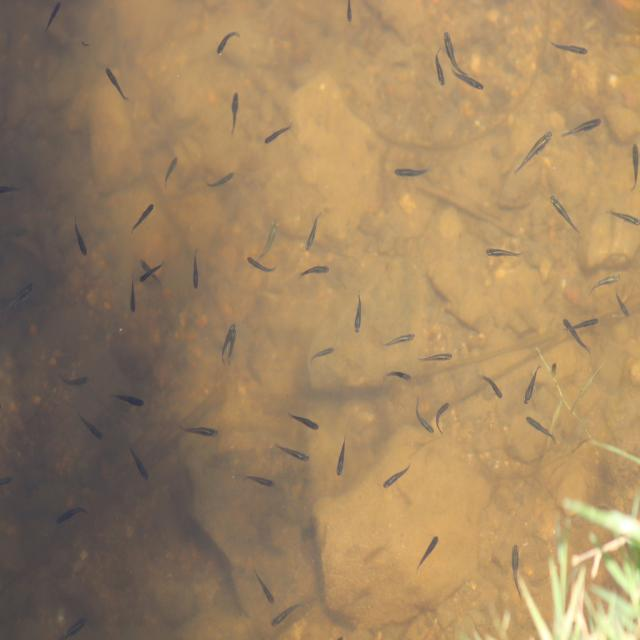Sivrisinek Baligi: (506, 127, 555, 176), (248, 216, 280, 274), (548, 192, 584, 237), (215, 321, 241, 372), (2, 277, 36, 316), (412, 397, 445, 437), (101, 65, 133, 106), (72, 406, 104, 443), (558, 114, 603, 140), (124, 443, 153, 482), (248, 567, 276, 607), (69, 214, 92, 262), (389, 160, 434, 184), (48, 612, 88, 639), (302, 210, 324, 257), (224, 86, 244, 136), (55, 496, 86, 528), (272, 438, 310, 464), (173, 421, 221, 441), (237, 468, 276, 492), (128, 202, 157, 234), (548, 37, 590, 59), (483, 240, 524, 262), (416, 532, 439, 571), (606, 204, 638, 232), (287, 406, 320, 433), (380, 326, 414, 352), (522, 367, 544, 407), (382, 461, 412, 490), (264, 119, 294, 147), (624, 138, 639, 192), (348, 292, 367, 334), (213, 28, 239, 58), (590, 269, 621, 294), (109, 389, 147, 409), (300, 260, 332, 283), (332, 437, 349, 478), (418, 348, 456, 366), (188, 246, 202, 294), (311, 341, 334, 366)
